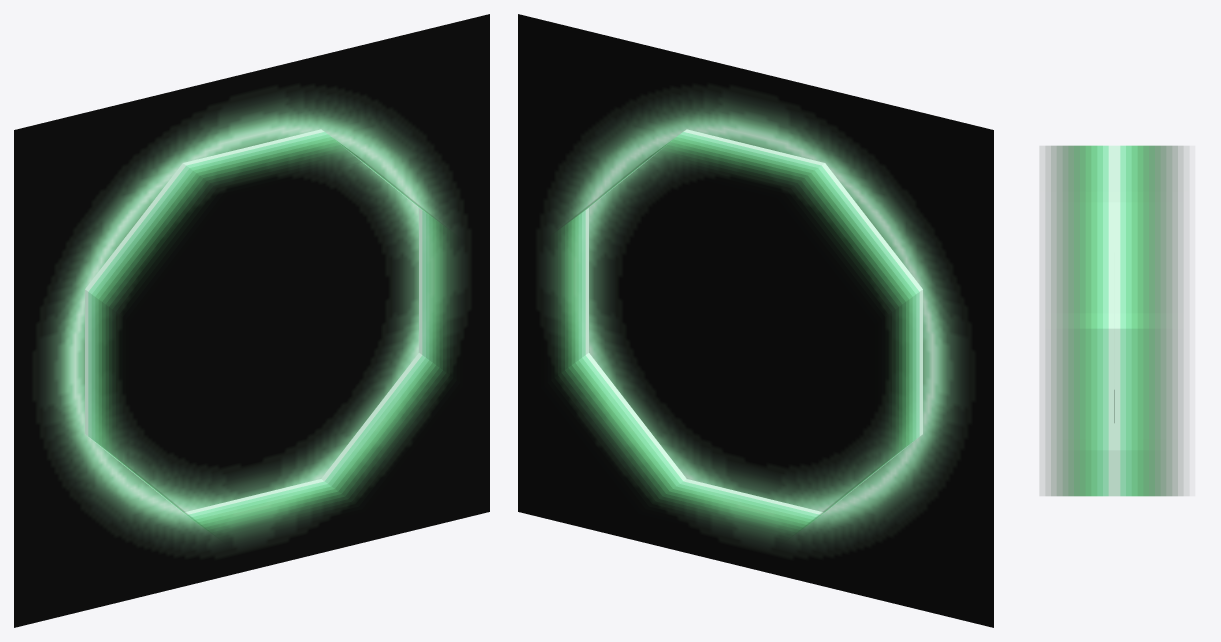
Rendered from si_eoa_2100.glb.
3 renders of one model, left to right at view 1: azimuth 30°, elevation 25°; view 2: azimuth 150°, elevation 25°; view 3: azimuth 270°, elevation 25°, orthographic. The views are drawn at different scales.
Visible parts, largest first — view 1: layer_00_si_eoa_2100, layer_01_si_eoa_2101; view 2: layer_00_si_eoa_2100, layer_01_si_eoa_2101; view 3: layer_01_si_eoa_2101.
Part boxes in pixels (x1,y1,x2,y2): layer_00_si_eoa_2100: (14, 14, 489, 627); layer_01_si_eoa_2101: (85, 129, 456, 539); layer_00_si_eoa_2100: (518, 14, 993, 627); layer_01_si_eoa_2101: (551, 129, 922, 539); layer_01_si_eoa_2101: (1045, 145, 1183, 496).
Bounding box in the file's own units: 20 × 20 × 8.
2 materials, 2 textured.
